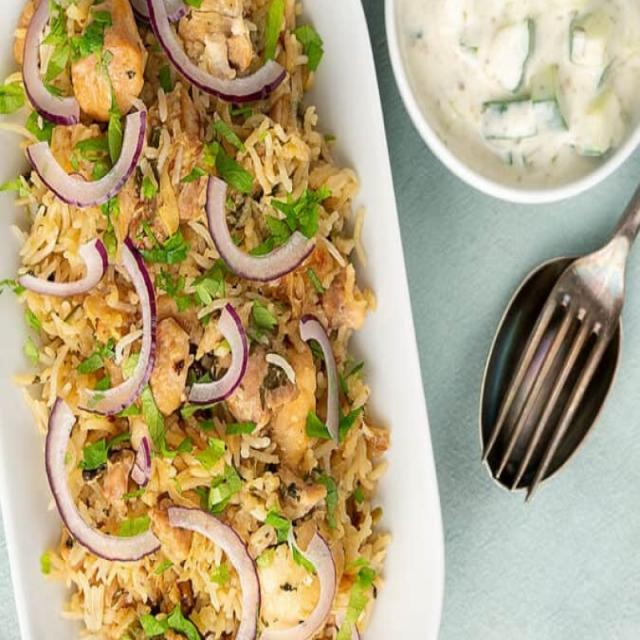Biryani: (6, 1, 391, 639)
